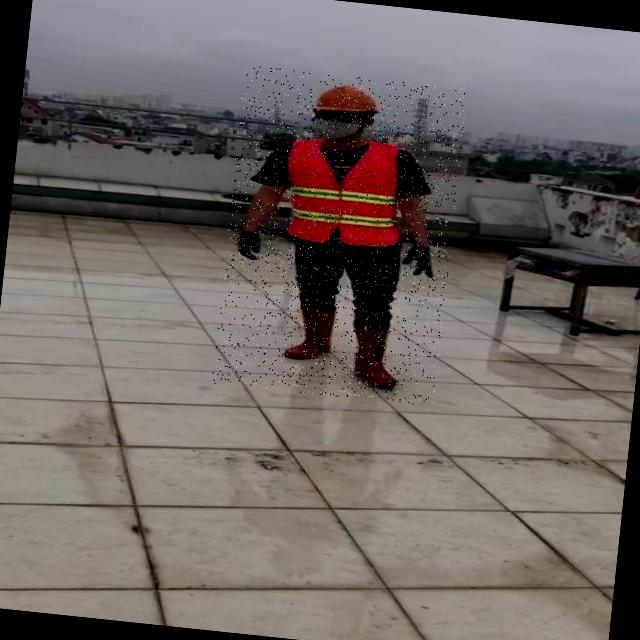boots: (344, 322, 403, 390), (282, 304, 339, 364)
helmet: (310, 78, 385, 119)
vest: (278, 136, 408, 252)
